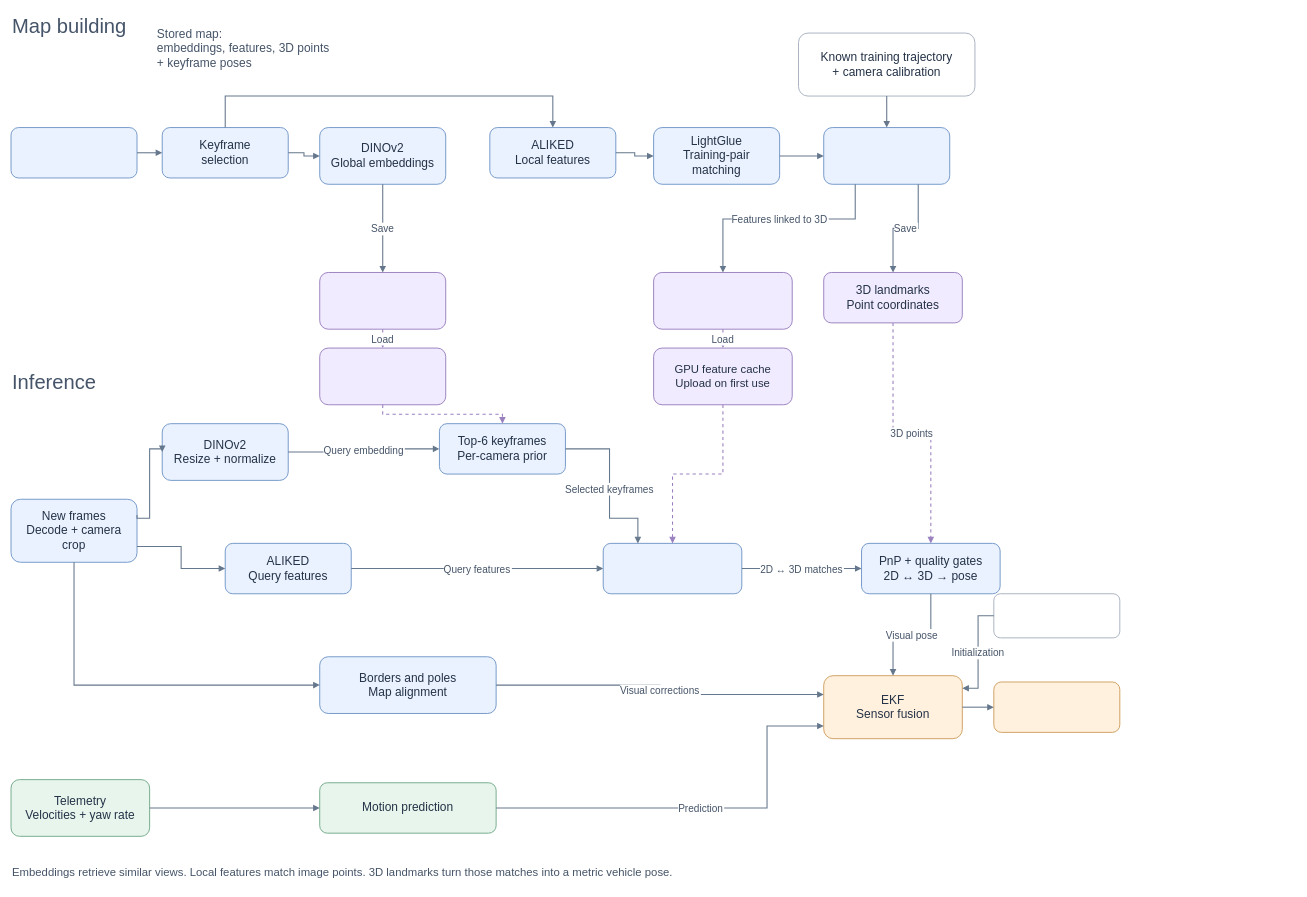
This 1307x897 diagram has some shape labels left out. The shapes that lost their labels are listed below. From the top down, each one's box as (x1, y1, x2, y2) in pixels, then its label:
(10, 127, 137, 178): Training frames
(823, 127, 950, 184): Triangulation + geometric checks
(319, 272, 446, 329): Training embeddings Image similarity
(653, 272, 792, 329): Keyframe features Keypoints + descriptors
(319, 347, 446, 405): Retrieval index Embeddings + poses
(602, 543, 742, 594): LightGlue Match candidates
(993, 593, 1120, 638): Initial pose
(993, 681, 1120, 733): Vehicle pose x, y, yaw
